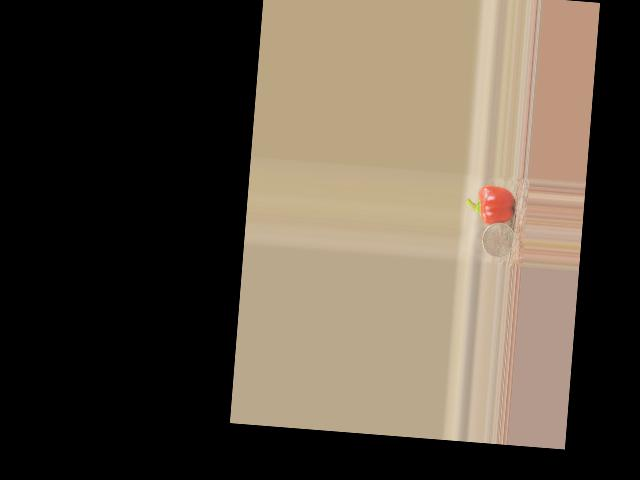bell_pepper: (464, 183, 517, 225)
